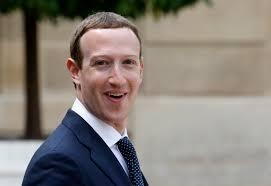Persons: (61, 11, 154, 129)
